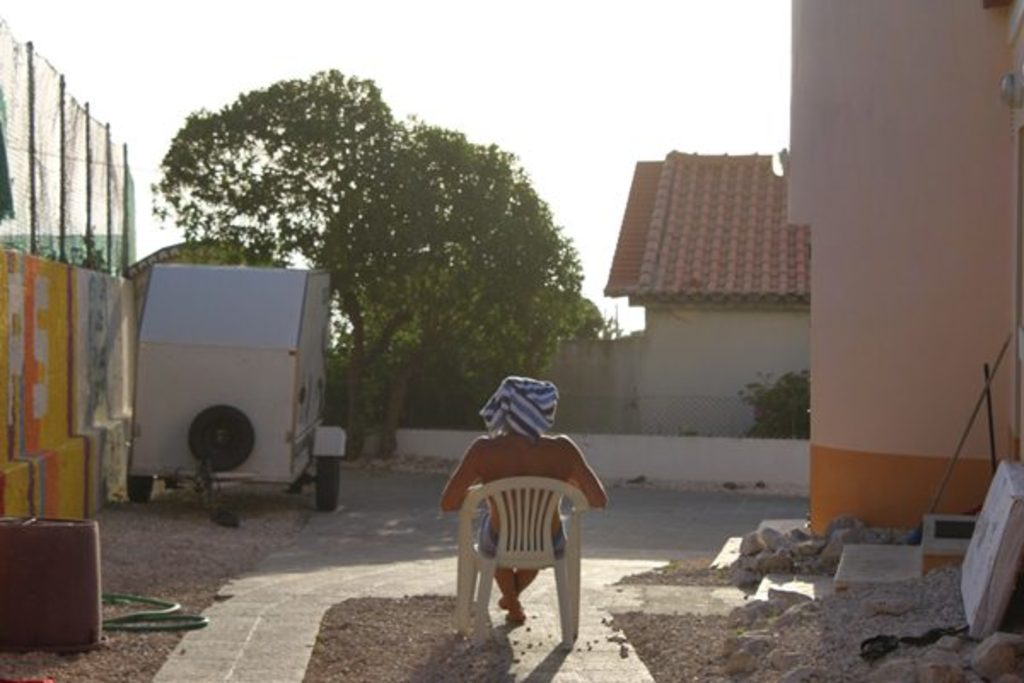Chair: (440, 478, 584, 659)
